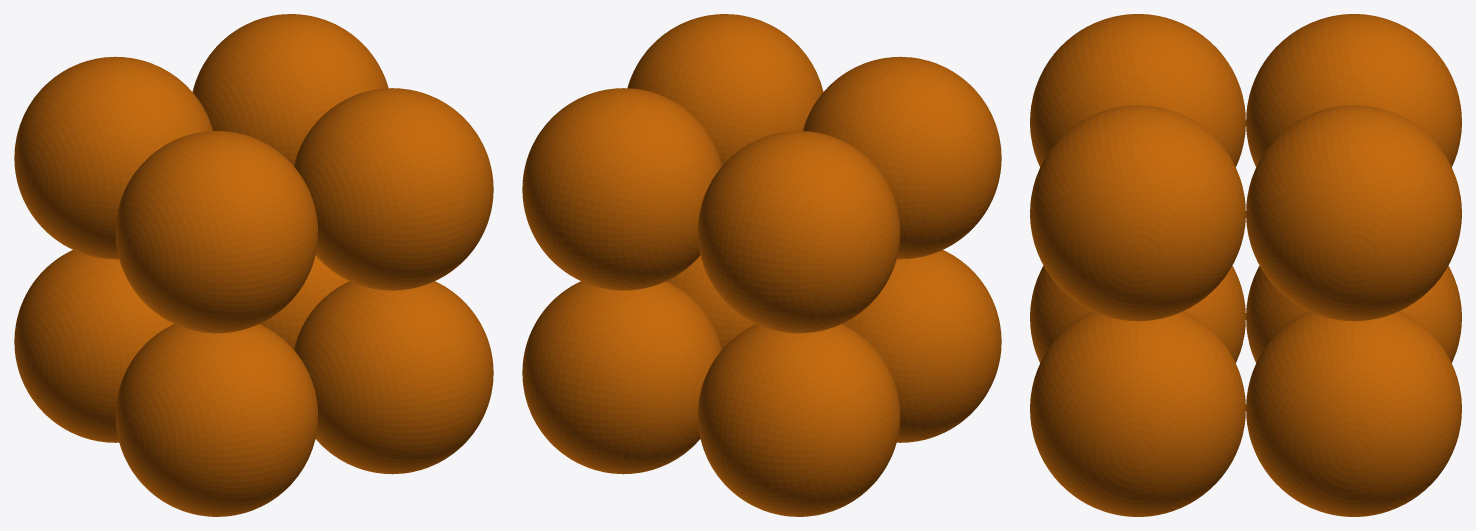
Rendered from SCC_Atoms.glb.
3 renders of one model, left to right at view 1: azimuth 30°, elevation 25°; view 2: azimuth 150°, elevation 25°; view 3: azimuth 270°, elevation 25°, orthographic. The views are drawn at different scales.
Visible parts, largest first — view 1: SCC_Atoms; view 2: SCC_Atoms; view 3: SCC_Atoms.
Part boxes in pixels (<box>): SCC_Atoms: <box>14,14,493,516</box>; SCC_Atoms: <box>522,14,1001,516</box>; SCC_Atoms: <box>1030,14,1461,516</box>.
Size of the model in its own units: 0.8 by 0.7993 by 0.7996.
